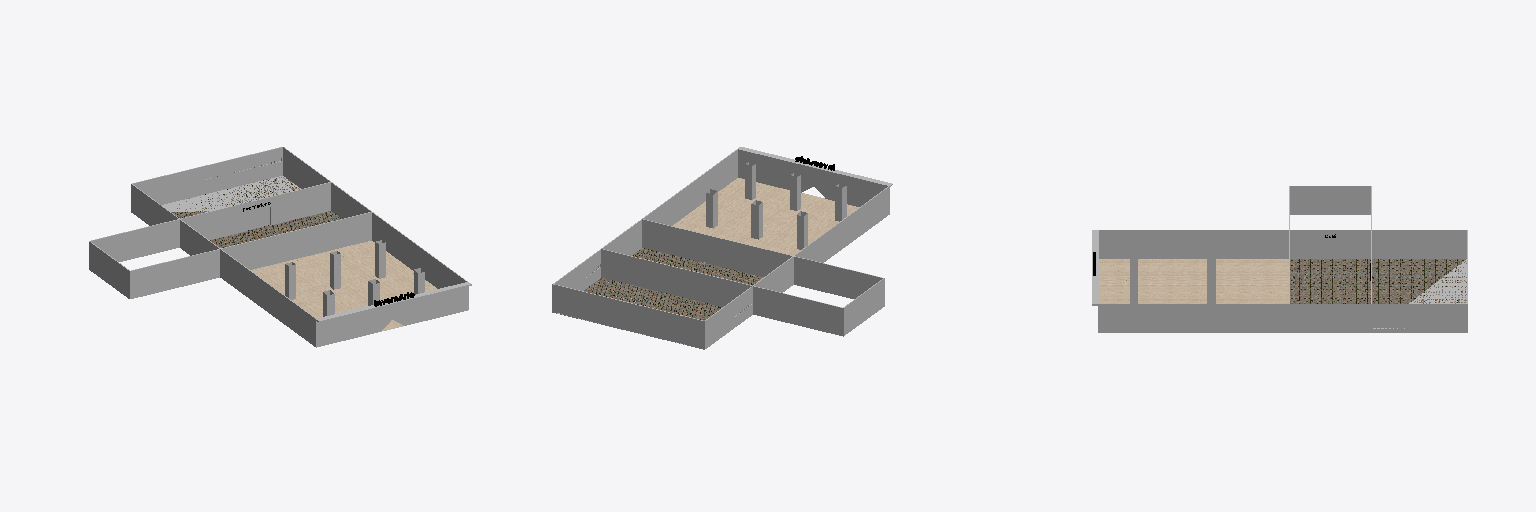
The picture shows the model from 3 angles: view 1: azimuth 30°, elevation 25°; view 2: azimuth 150°, elevation 25°; view 3: azimuth 270°, elevation 25°; orthographic projection.
Visible parts, largest first — view 1: Paredes_Exteriores, Pared_Invernadero, Piso, Pared_Interna_1, Columnas, Piso_piedra, Pared_Interna_2; view 2: Paredes_Exteriores, Pared_Invernadero, Piso, Pared_Interna_1, Piso_piedra, Columnas, Pared_Interna_2; view 3: Paredes_Exteriores, Piso, Piso_piedra, Pared_Invernadero, Pared_Interna_2, Columnas.
Part boxes in pixels (bbox=[...]): Paredes_Exteriores: bbox=[89, 182, 471, 347]; Pared_Invernadero: bbox=[131, 147, 330, 225]; Piso: bbox=[251, 241, 436, 331]; Pared_Interna_1: bbox=[221, 212, 371, 269]; Columnas: bbox=[285, 240, 424, 316]; Piso_piedra: bbox=[171, 177, 341, 247]; Pared_Interna_2: bbox=[180, 219, 220, 255]; Paredes_Exteriores: bbox=[601, 147, 892, 336]; Pared_Invernadero: bbox=[552, 249, 752, 349]; Piso: bbox=[673, 178, 858, 255]; Pared_Interna_1: bbox=[642, 219, 791, 276]; Piso_piedra: bbox=[584, 248, 763, 320]; Columnas: bbox=[706, 162, 846, 249]; Pared_Interna_2: bbox=[753, 256, 793, 292]; Paredes_Exteriores: bbox=[1092, 186, 1371, 332]; Piso: bbox=[1099, 259, 1288, 303]; Piso_piedra: bbox=[1290, 259, 1466, 303]; Pared_Invernadero: bbox=[1372, 230, 1467, 332]; Pared_Interna_2: bbox=[1290, 230, 1370, 258]; Columnas: bbox=[1130, 237, 1215, 303].
Size of the model in its own units: 40.3 by 5.52 by 54.08.
Materials: 4 (2 with a texture image).